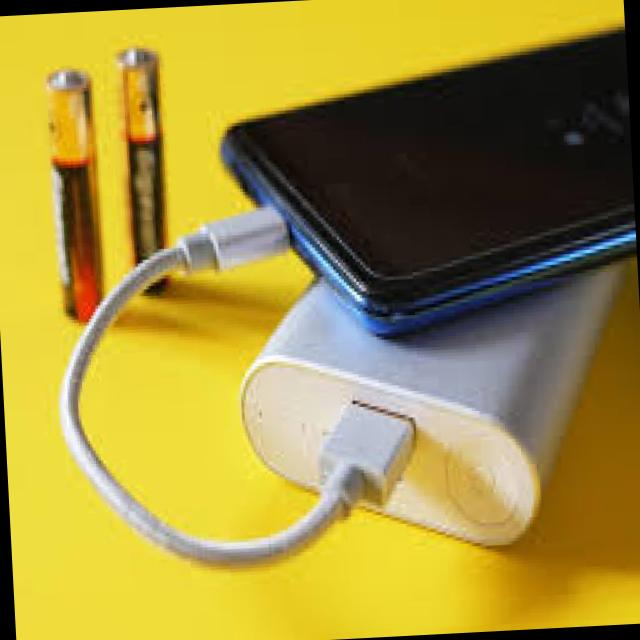power_bank: (226, 234, 640, 569)
